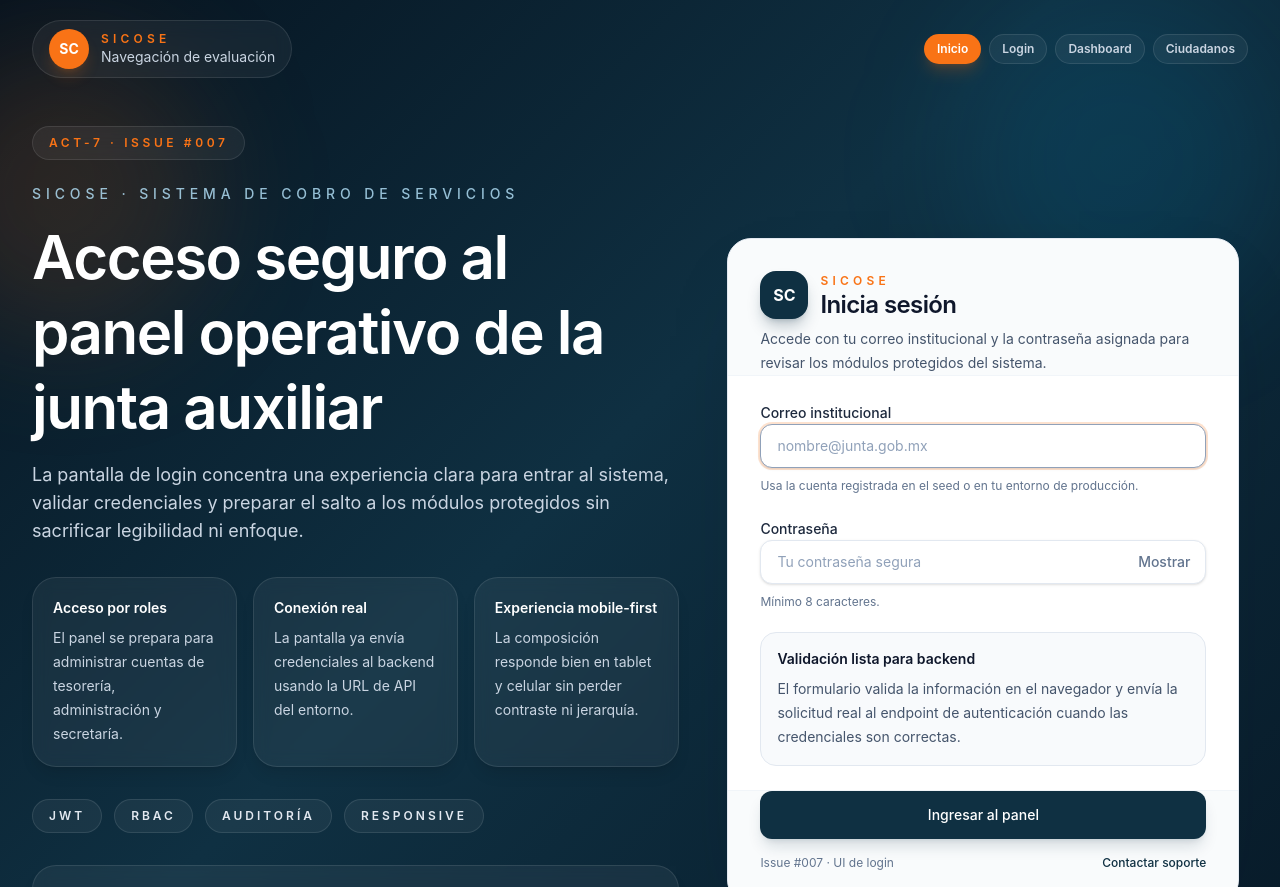
Test: LoginPage › submits credentials to the backend and stores the auth session
The image size is (1280, 887).
In the field labelled "Correo institucional": (983, 446) [760,424,1206,468], type "CRISTIAN@JUNTA.GOB.MX"
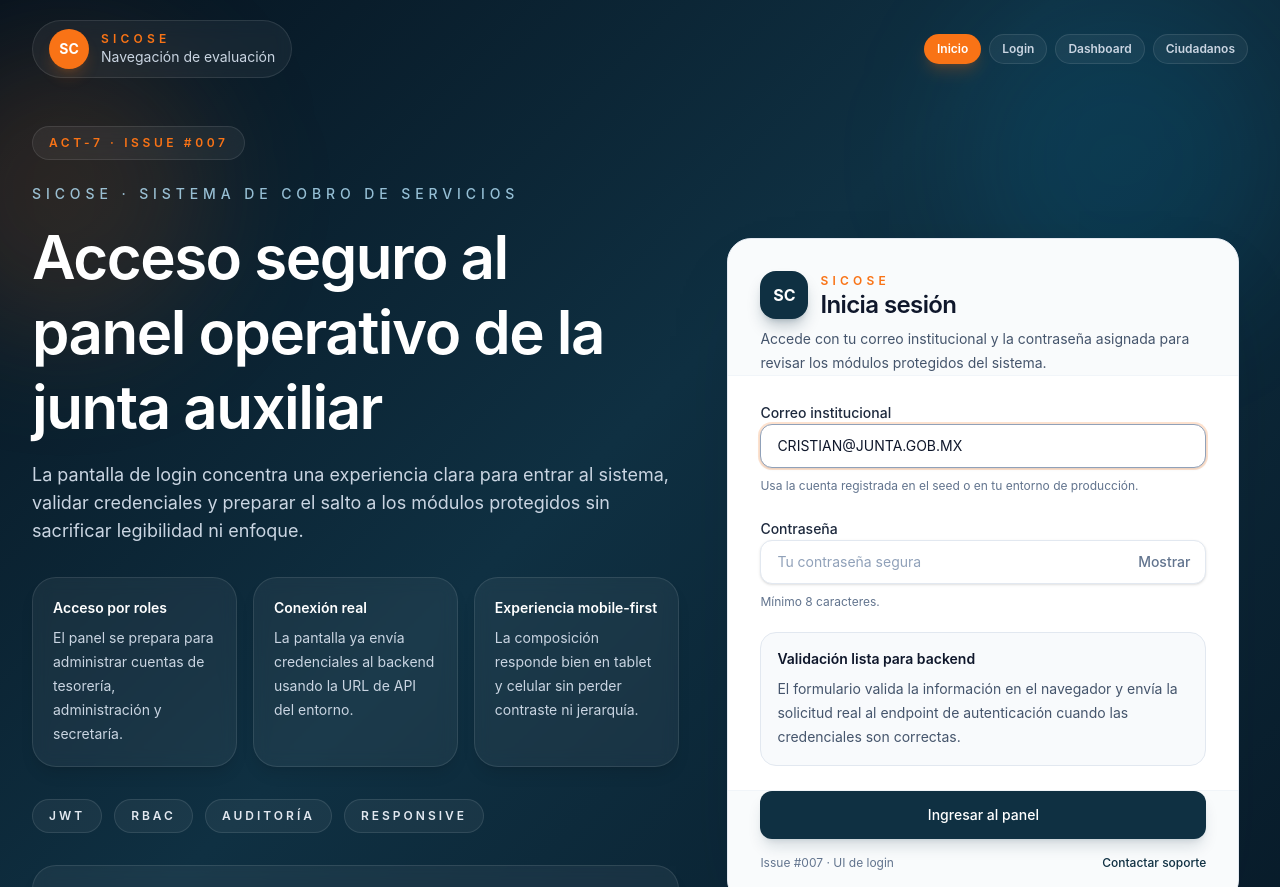
In the password field labelled "Contraseña": (983, 562) [760,540,1206,584], type "SiCoSe2026!"
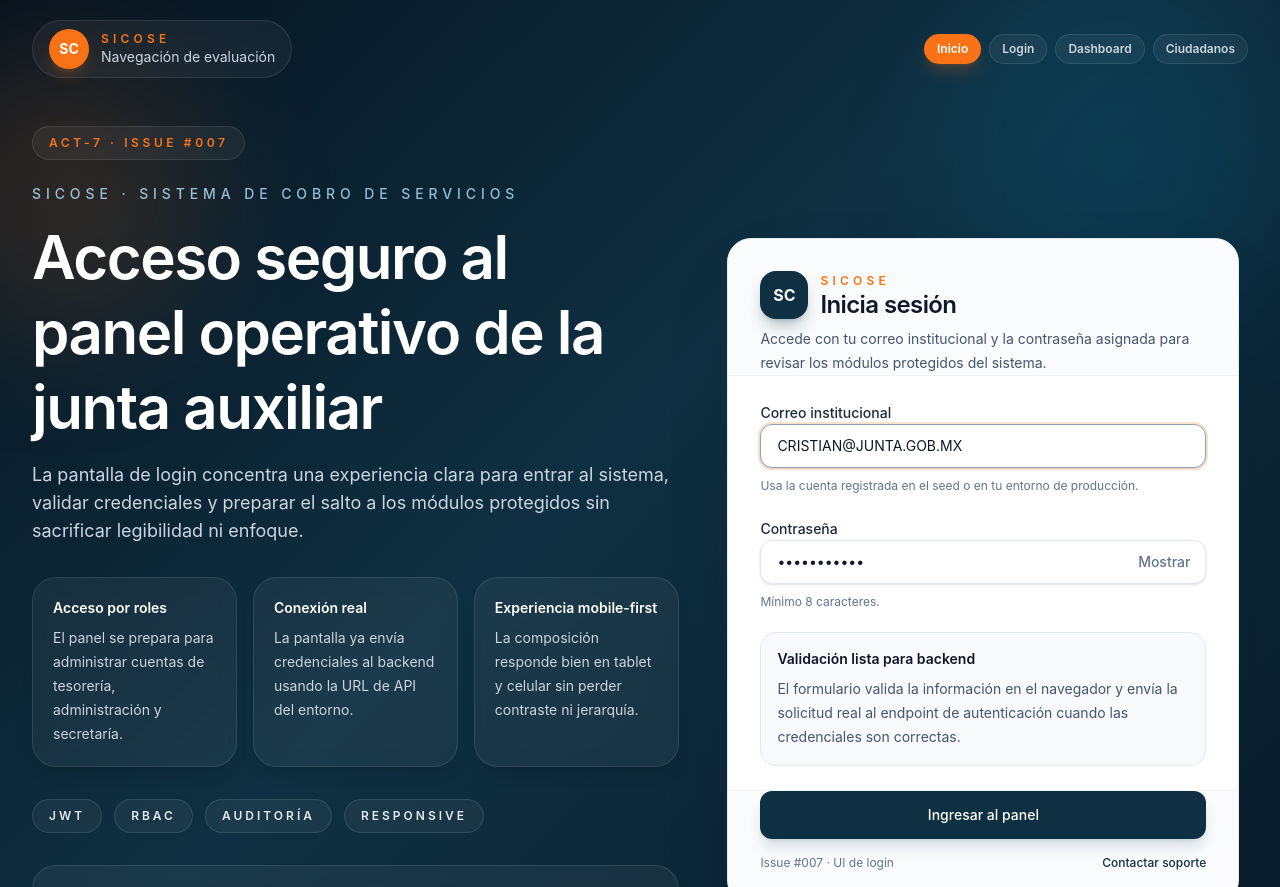
Click the button "Ingresar al panel": (983, 814) [760,790,1206,838]
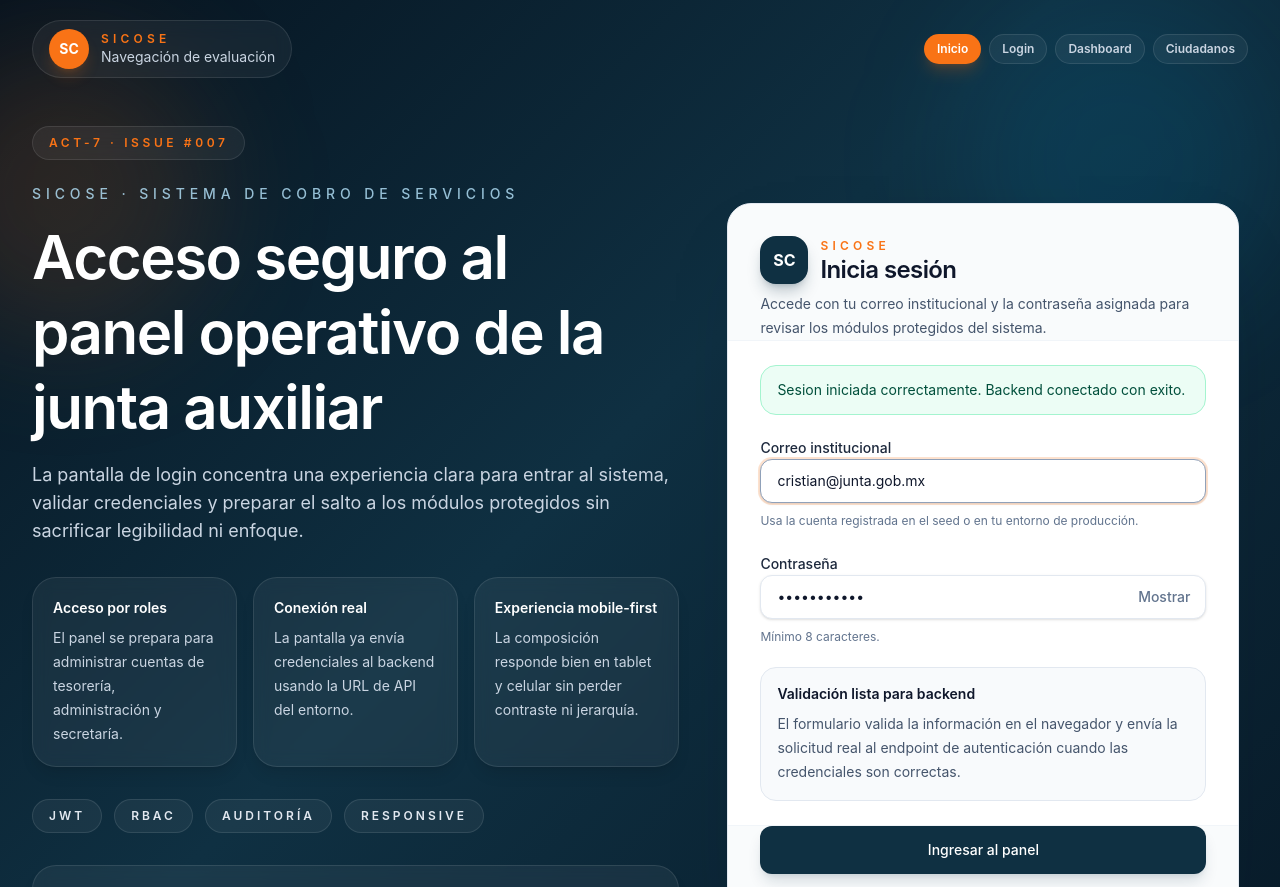
Expected: the message shows "Sesion iniciada correctamente", [777,380,1185,398]
